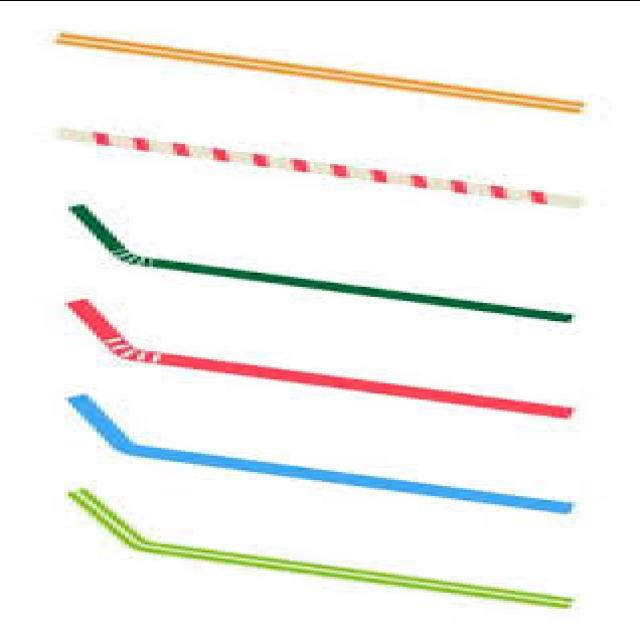straw: (70, 487, 571, 607), (67, 299, 571, 417), (70, 398, 571, 513), (70, 207, 571, 321), (55, 33, 584, 113), (57, 129, 581, 207)
